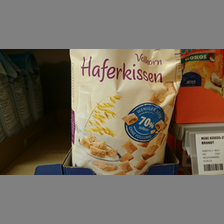cereal: (70, 49, 182, 175)
